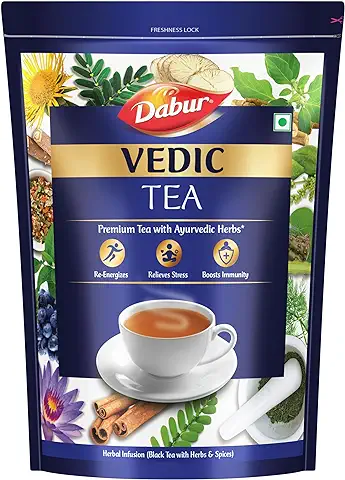Tea: (2, 1, 325, 480)
